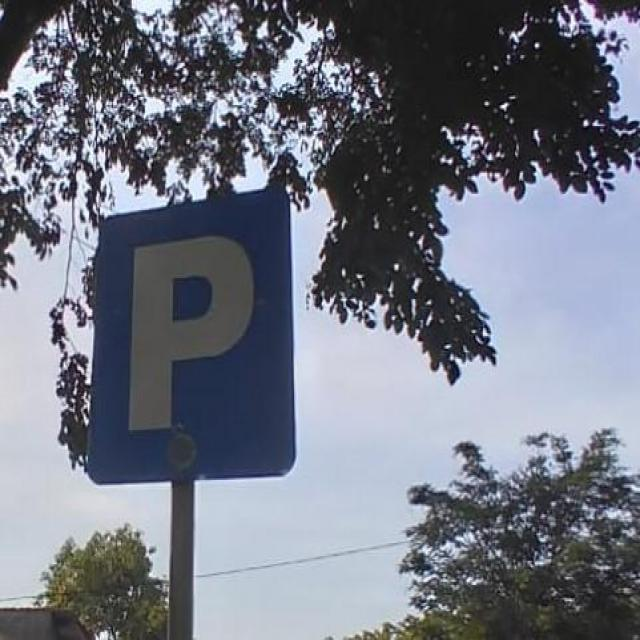traffic sign: (89, 192, 296, 476)
